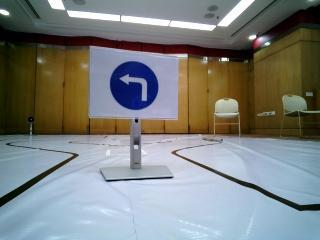left: (94, 53, 169, 114)
